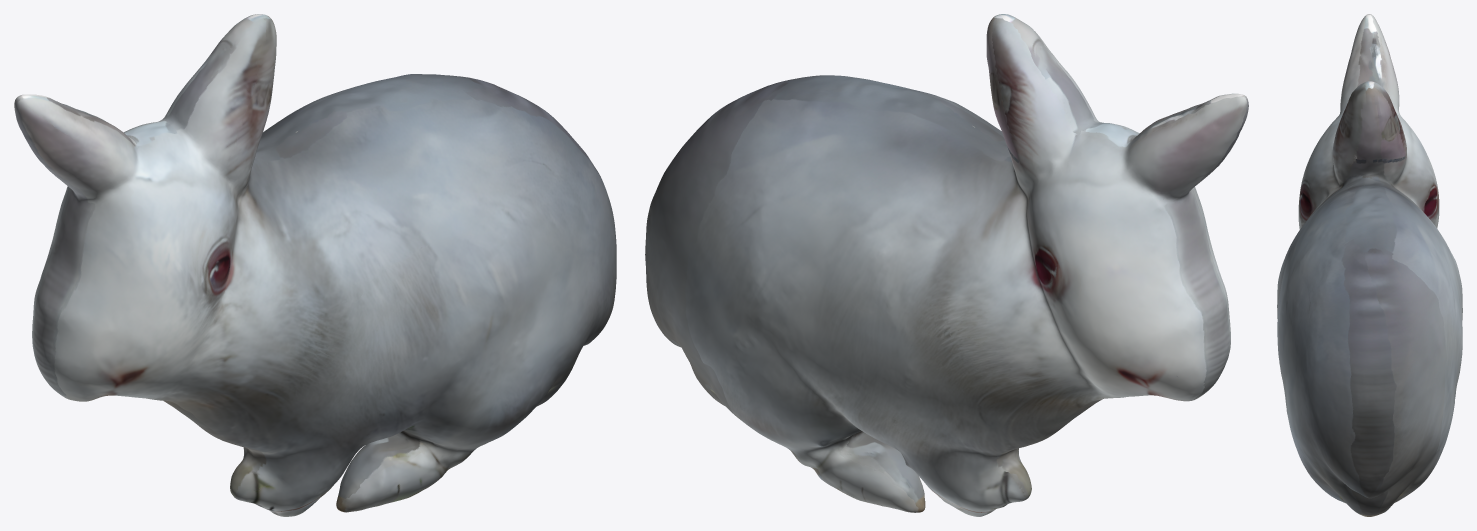
The model's file is bebe.glb.
3 renders of one model, left to right at view 1: azimuth 30°, elevation 25°; view 2: azimuth 150°, elevation 25°; view 3: azimuth 270°, elevation 25°, orthographic. The views are drawn at different scales.
Parts seen in each view (by area): view 1: mesh; view 2: mesh; view 3: mesh.
Part boxes in pixels (x1,y1,x2,y2): mesh: [14, 14, 616, 516]; mesh: [645, 14, 1248, 516]; mesh: [1277, 14, 1462, 516].
Size of the model in its own units: 1.6 by 1.34 by 0.5911.
Materials: 1 (1 with a texture image).
